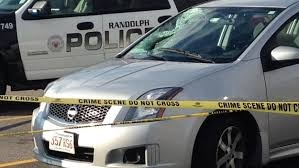Broken-glass: (128, 8, 217, 58)
